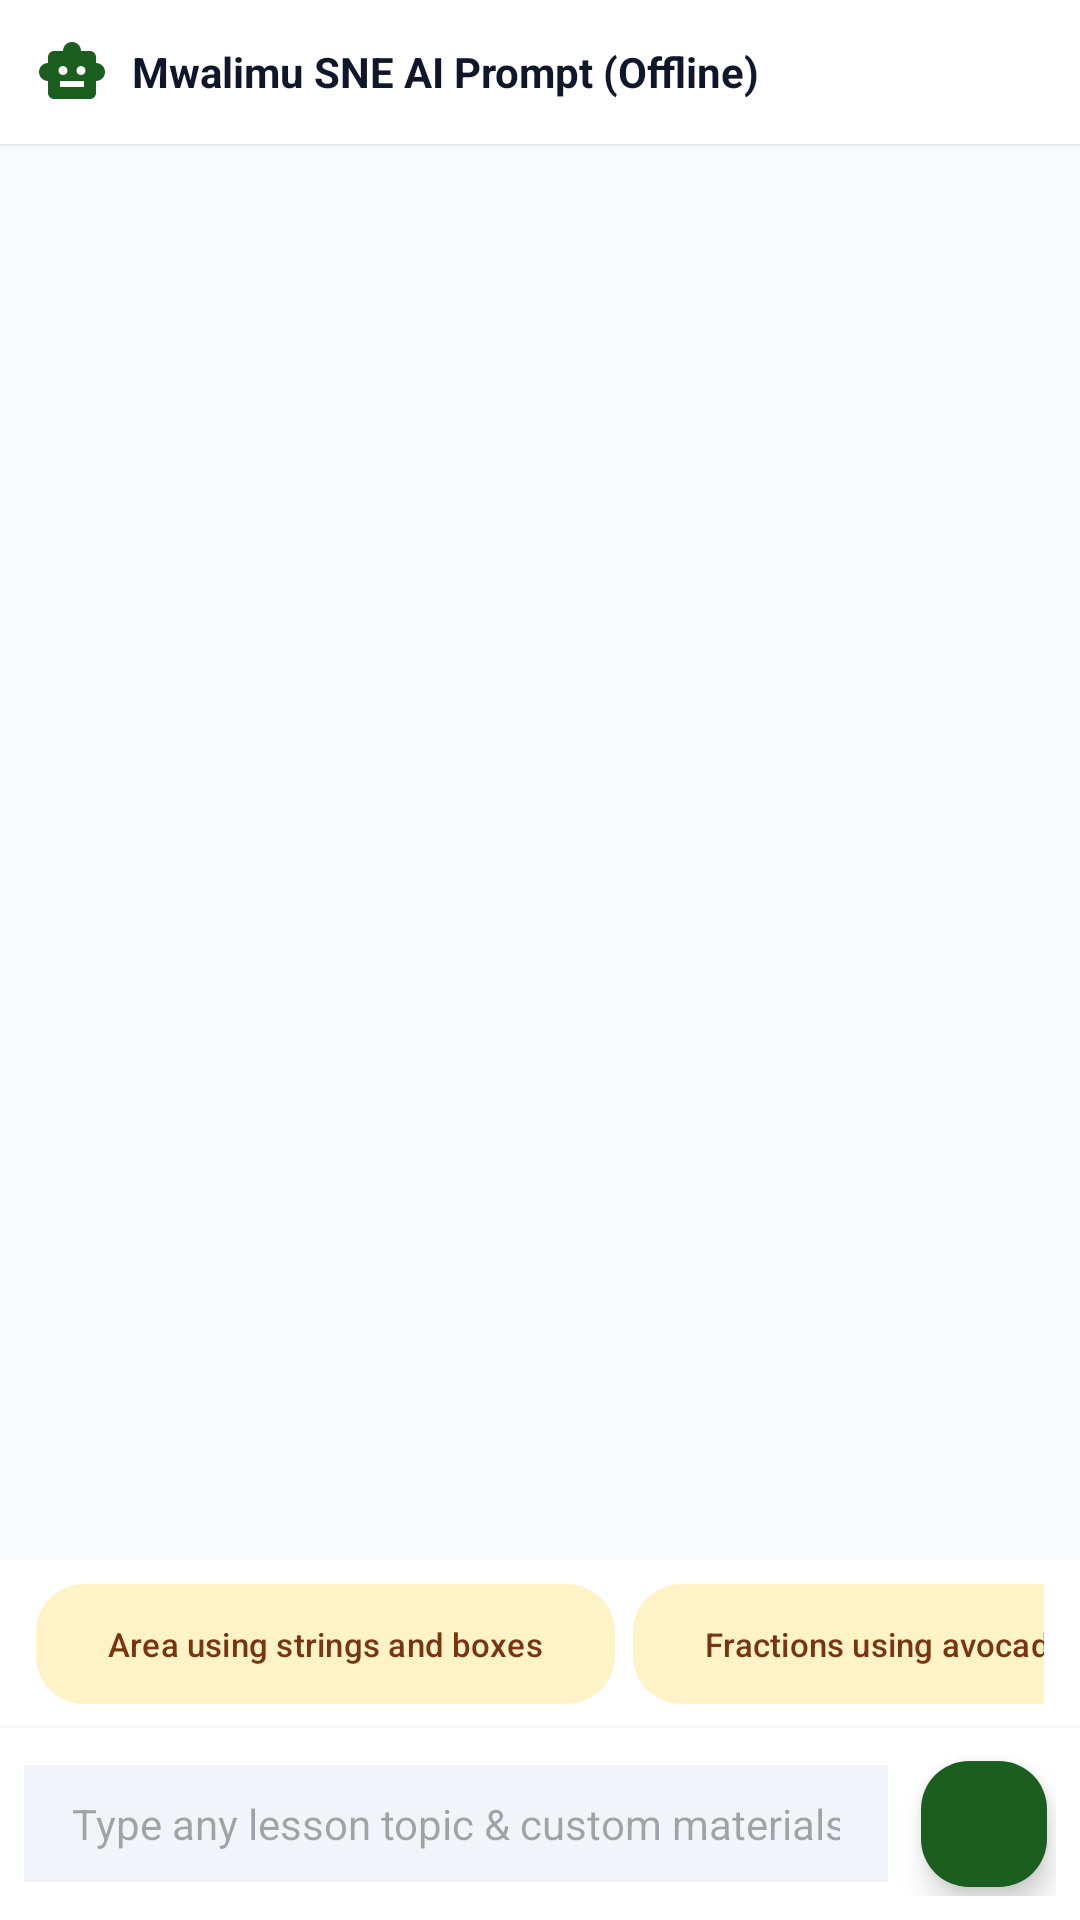

Icons on this 1080×1920 Android screen, each with its box as (x1, y1, x2, y2):
smart toy: (39, 42, 105, 99)
